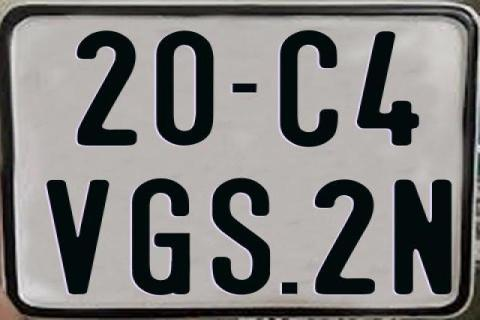0: (312, 177, 378, 297), (75, 29, 141, 144), (357, 31, 419, 148), (156, 31, 215, 150)
C: (280, 29, 341, 149)
G: (131, 177, 189, 296)
N: (392, 179, 454, 297)
S: (212, 175, 272, 293)
V: (43, 180, 110, 298)
